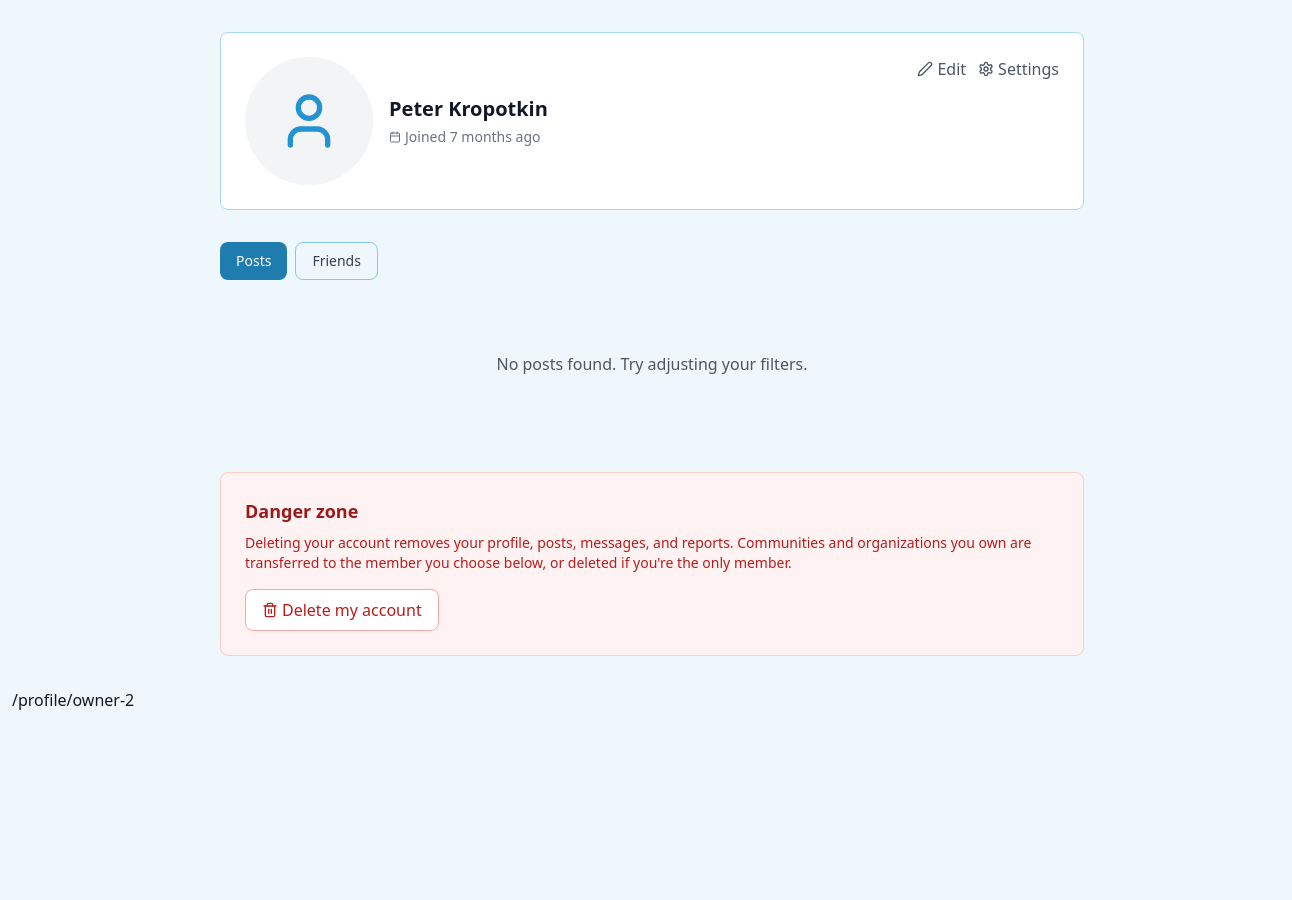
Test: ProfilePage delete account › renders a "will be deleted" notice for solo-owned groups instead of a dropdown
This screenshot has width=1292, height=900.
Click the button "Delete my account" at [342, 610], box [245,589,439,631]
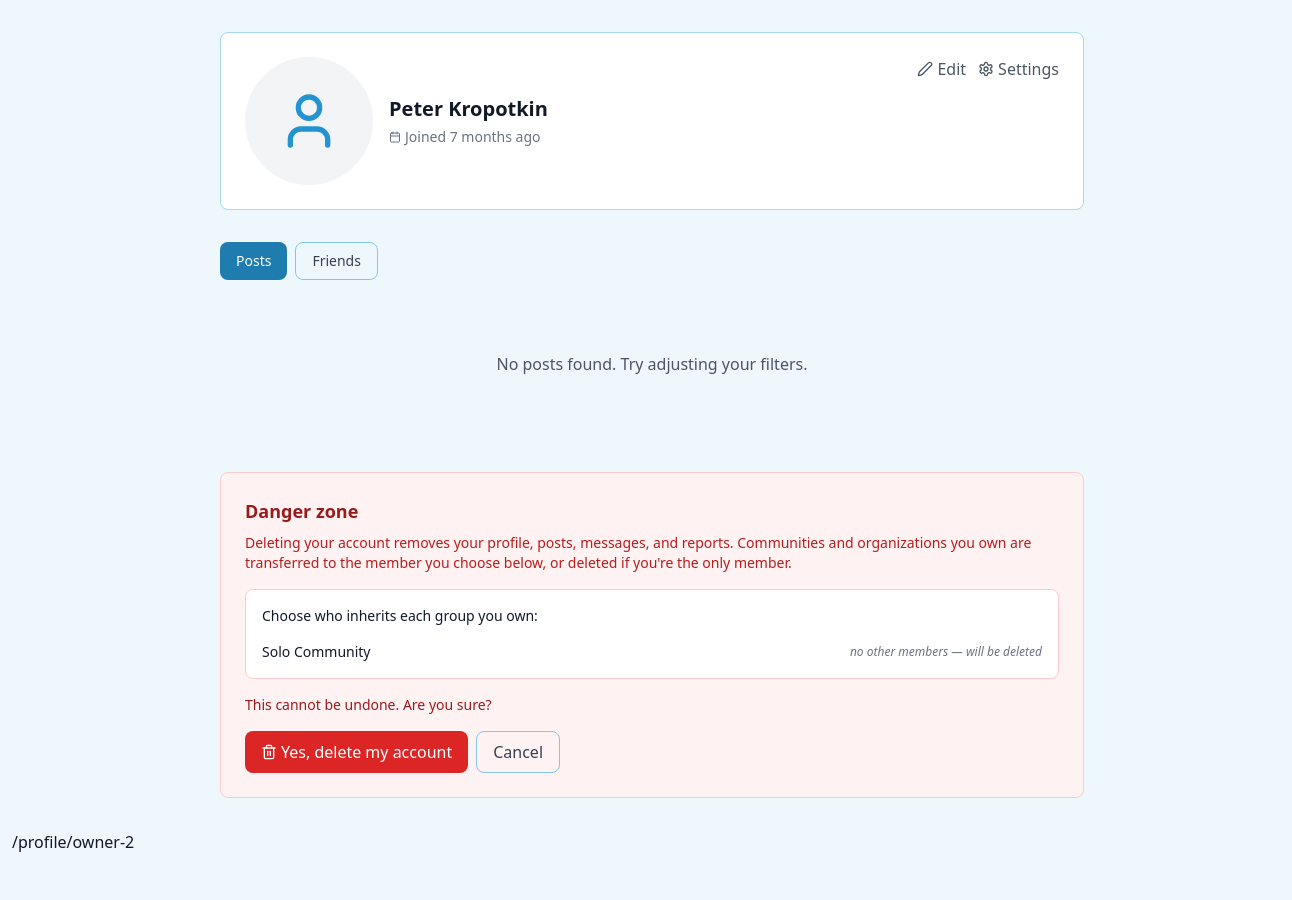
Now the text "Solo Community" is shown, box [262,642,370,662]
Now the text "no other members — will be deleted" is shown, box [850,644,1042,660]
